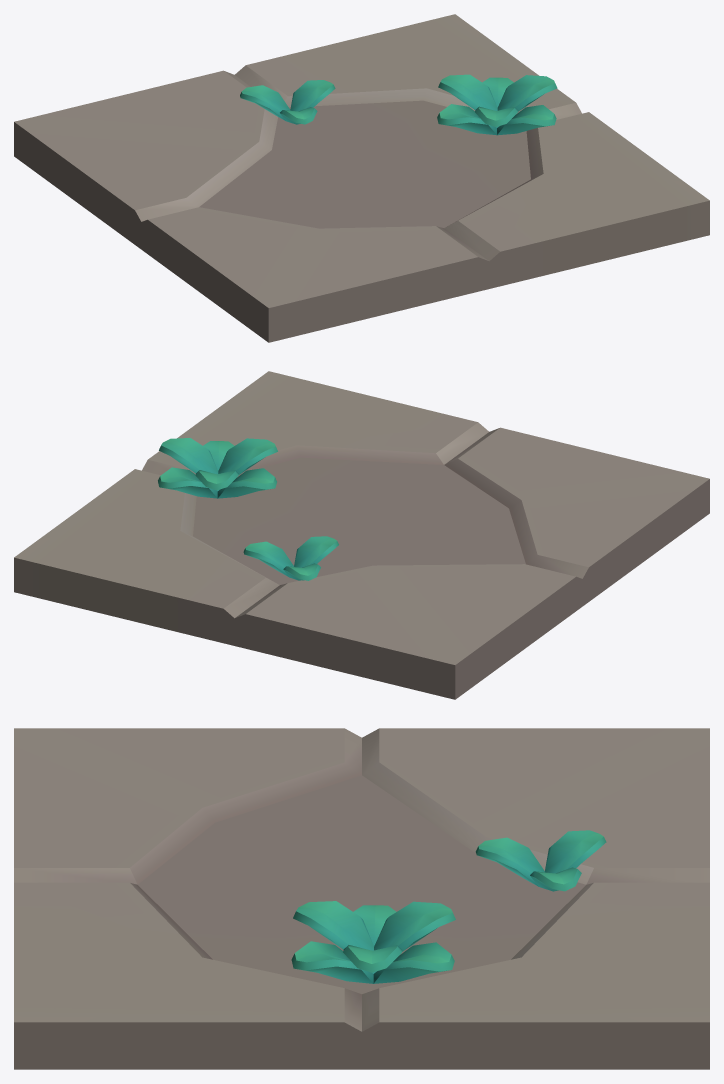
Rendered from b_donjon_sol_dalle_mousse.glb.
3 views of the same model, one above another, from view 1: azimuth 30°, elevation 25°; view 2: azimuth 150°, elevation 25°; view 3: azimuth 270°, elevation 25° (orthographic). The views are drawn at different scales.
Visible parts, largest first — view 1: b_donjon_sol_dalle_mousse; view 2: b_donjon_sol_dalle_mousse; view 3: b_donjon_sol_dalle_mousse.
Part boxes in pixels (left/top/right/bottom): b_donjon_sol_dalle_mousse: left=14, top=14, right=709, bottom=342; b_donjon_sol_dalle_mousse: left=14, top=371, right=709, bottom=699; b_donjon_sol_dalle_mousse: left=14, top=728, right=709, bottom=1069.
Size of the model in its own units: 2 by 0.2954 by 2.
1 material, 1 textured.
